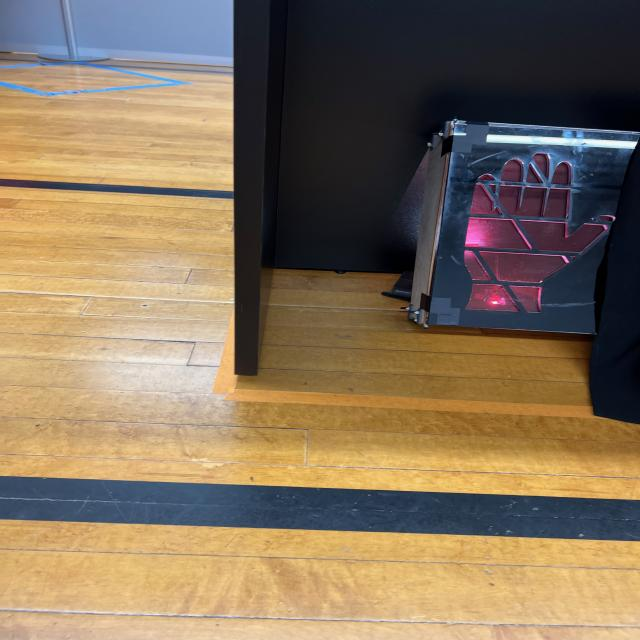stop: (427, 126, 640, 332)
